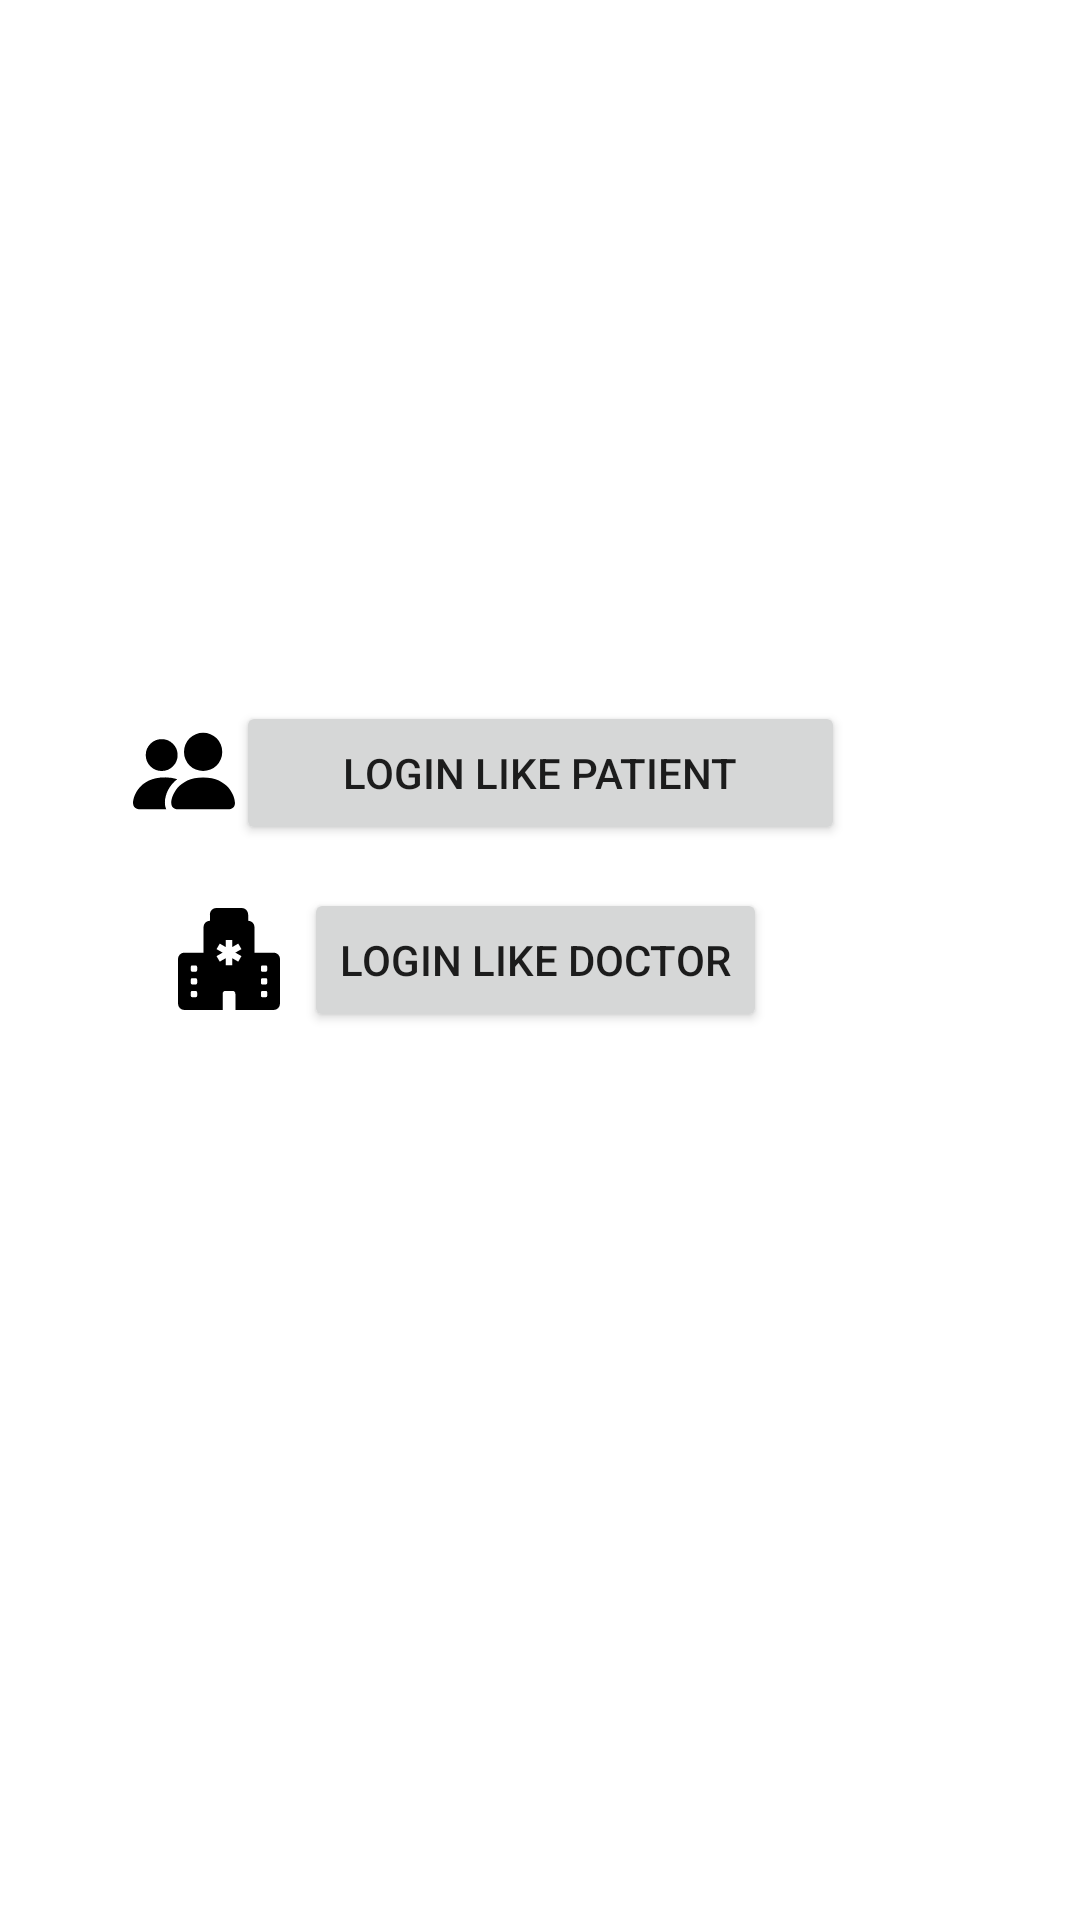

Point at icon controls on the screen. Image size 1080px×1920px, points as (x,y).
hospital: (229,959)
